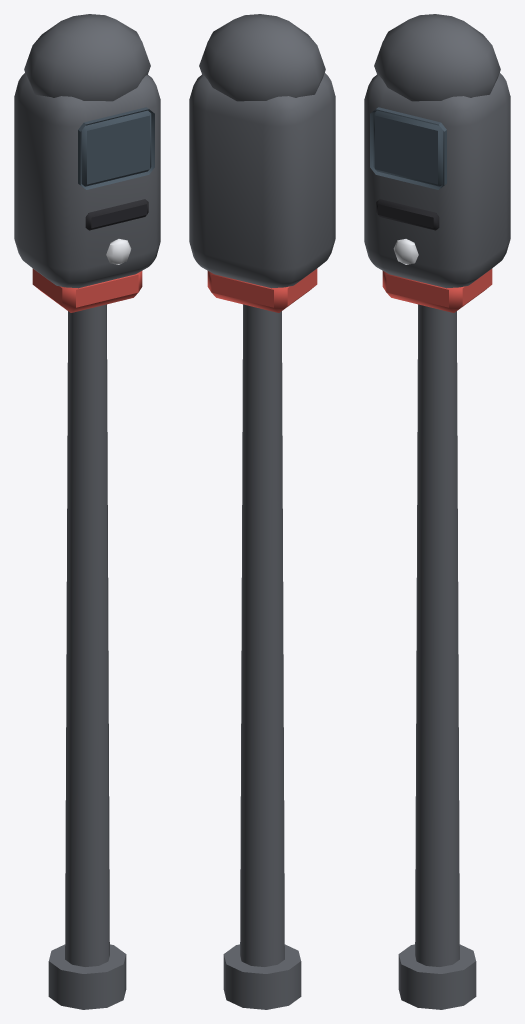
File: ParkingMeter.fbx
The picture shows the model from 3 angles, left to right: view 1: azimuth 30°, elevation 25°; view 2: azimuth 150°, elevation 25°; view 3: azimuth 330°, elevation 25°; orthographic projection.
Parts seen in each view (by area): view 1: ParkingMeter; view 2: ParkingMeter; view 3: ParkingMeter.
Part boxes in pixels (x1,y1,x2,y2): ParkingMeter: [14, 14, 160, 1009]; ParkingMeter: [189, 14, 335, 1009]; ParkingMeter: [364, 14, 510, 1009].
Bounding box in the file's own units: 0.2 × 1.63 × 0.192.
